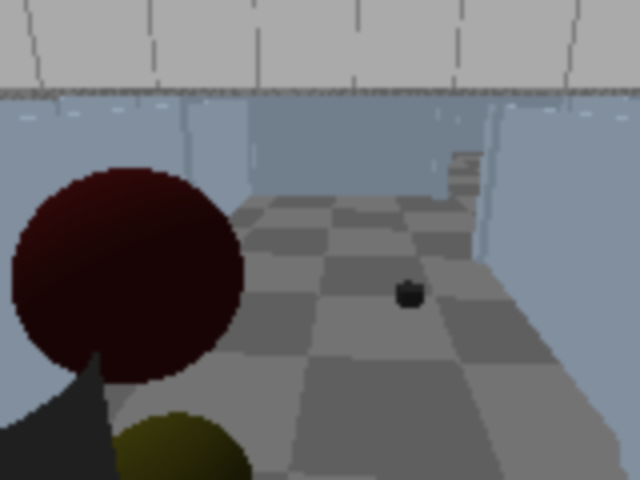puck: (399, 282, 422, 307)
